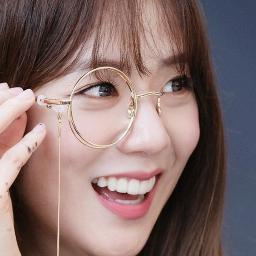face: (46, 4, 198, 256)
